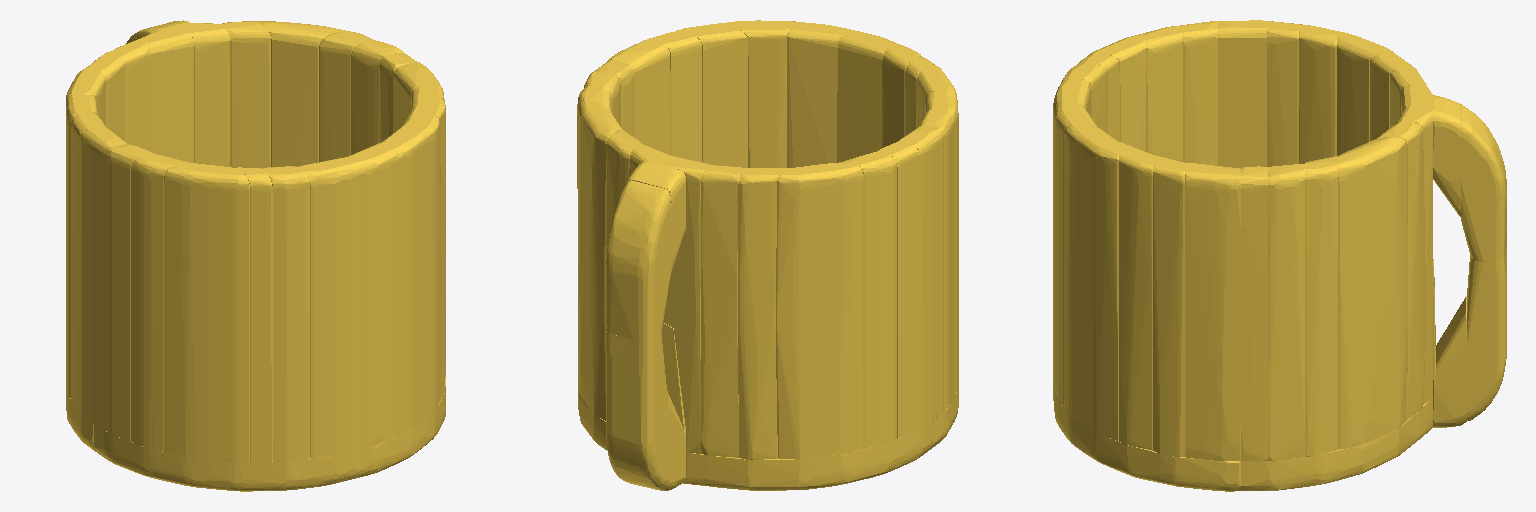
robot.urdf — 113.urdf:
<?xml version="1.0" ?>
<robot name="113.urdf">
	<link name="baseLink">
		<inertial>
			<origin rpy="0 0 0" xyz="0 0 0"/>
				<mass value="0.1"/>
				<inertia ixx="6e-5" ixy="0" ixz="0" iyy="6e-5" iyz="0" izz="6e-5"/>
		</inertial>
		<visual>
			<origin rpy="0 0 0" xyz="0 0 0"/>
			<geometry>
				<mesh filename="0_decom_wt.obj" scale="0.83 0.83 1.00"/>
			</geometry>
			<material name="yellow">
				<color rgba="0.98 0.84 0.35 1"/>
			</material>
		</visual>
		<collision>
			<origin rpy="0 0 0" xyz="0 0 0"/>
			<geometry>
				<mesh filename="0_decom_wt.obj" scale="0.83 0.83 1.00"/>
			</geometry>
		</collision>
	</link>
</robot>

--- Render facts (derived) ---
Views: 3 orthographic renders of the robot side by side, from view 1: azimuth 30°, elevation 25°; view 2: azimuth 150°, elevation 25°; view 3: azimuth 270°, elevation 25°.
Robot: 113.urdf — 1 links, 0 joints (none); root link baseLink; default pose: all joints at 0.
Links seen in each view (by area): view 1: baseLink; view 2: baseLink; view 3: baseLink.
Boxes of the visible links, x1,y1,x2,y2 form: baseLink: (66,20,445,491); baseLink: (577,20,958,490); baseLink: (1053,20,1506,491).
Size in the robot's own frame: 0.1058 by 0.126 by 0.0974 metres.
Meshes: 1 distinct files referenced, 1 mesh visuals loaded (1 OBJ).